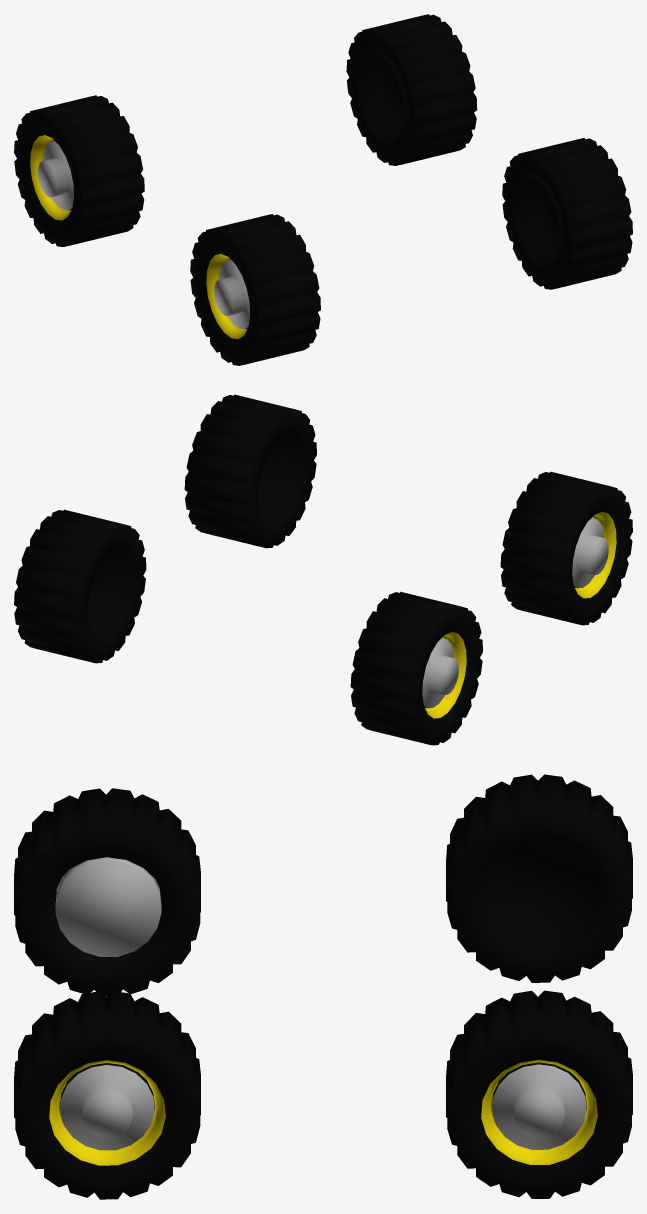
Rendered from player-kart-crosstire.glb.
3 views of the same model, one above another, from view 1: azimuth 30°, elevation 25°; view 2: azimuth 150°, elevation 25°; view 3: azimuth 270°, elevation 25° (orthographic). The views are drawn at different scales.
Parts seen in each view (by area): view 1: crosstire; view 2: crosstire; view 3: crosstire.
Boxes of the visible parts, x1,y1,x2,y2 form: crosstire: (14,14,632,365); crosstire: (14,394,632,745); crosstire: (14,774,632,1199).
Bounding box in the file's own units: 0.766 × 0.2409 × 0.7774.
